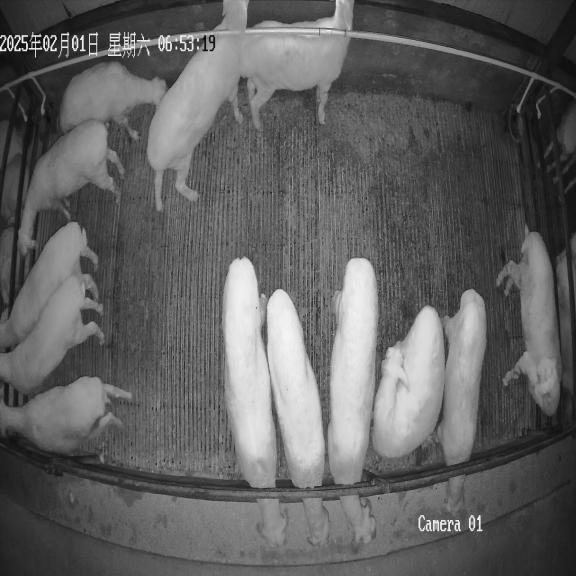eating: (222, 257, 286, 546), (266, 289, 328, 546), (328, 258, 378, 546), (437, 289, 486, 514)
stand: (146, 0, 249, 211), (241, 0, 354, 129), (18, 120, 125, 256), (0, 222, 99, 350), (495, 230, 562, 416), (0, 276, 104, 394), (372, 306, 445, 459), (0, 376, 130, 453), (59, 61, 167, 141)
